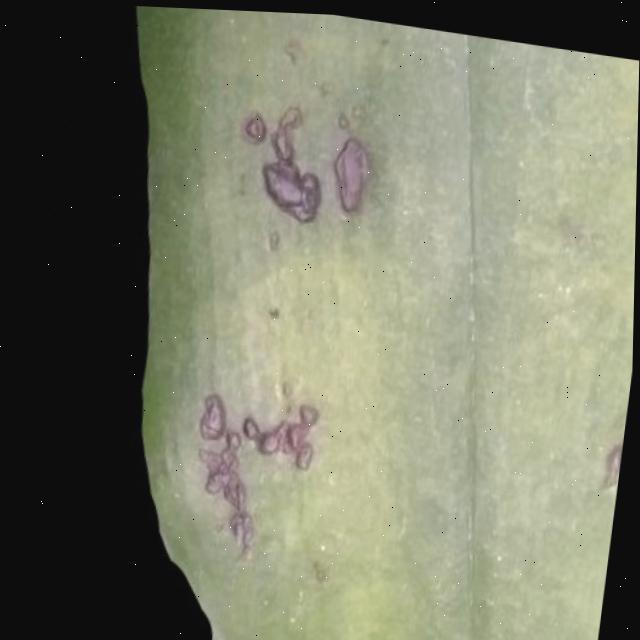mite: (257, 154, 329, 225), (591, 422, 626, 498), (302, 549, 342, 594), (257, 291, 294, 331), (601, 434, 625, 489), (240, 111, 271, 145), (331, 105, 358, 134), (262, 298, 289, 324), (310, 558, 335, 585), (336, 111, 353, 129), (267, 304, 283, 320)
sunburn: (177, 378, 331, 572)
